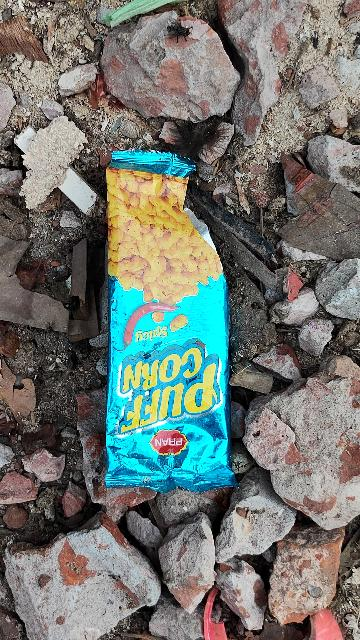packet: (103, 134, 237, 502)
